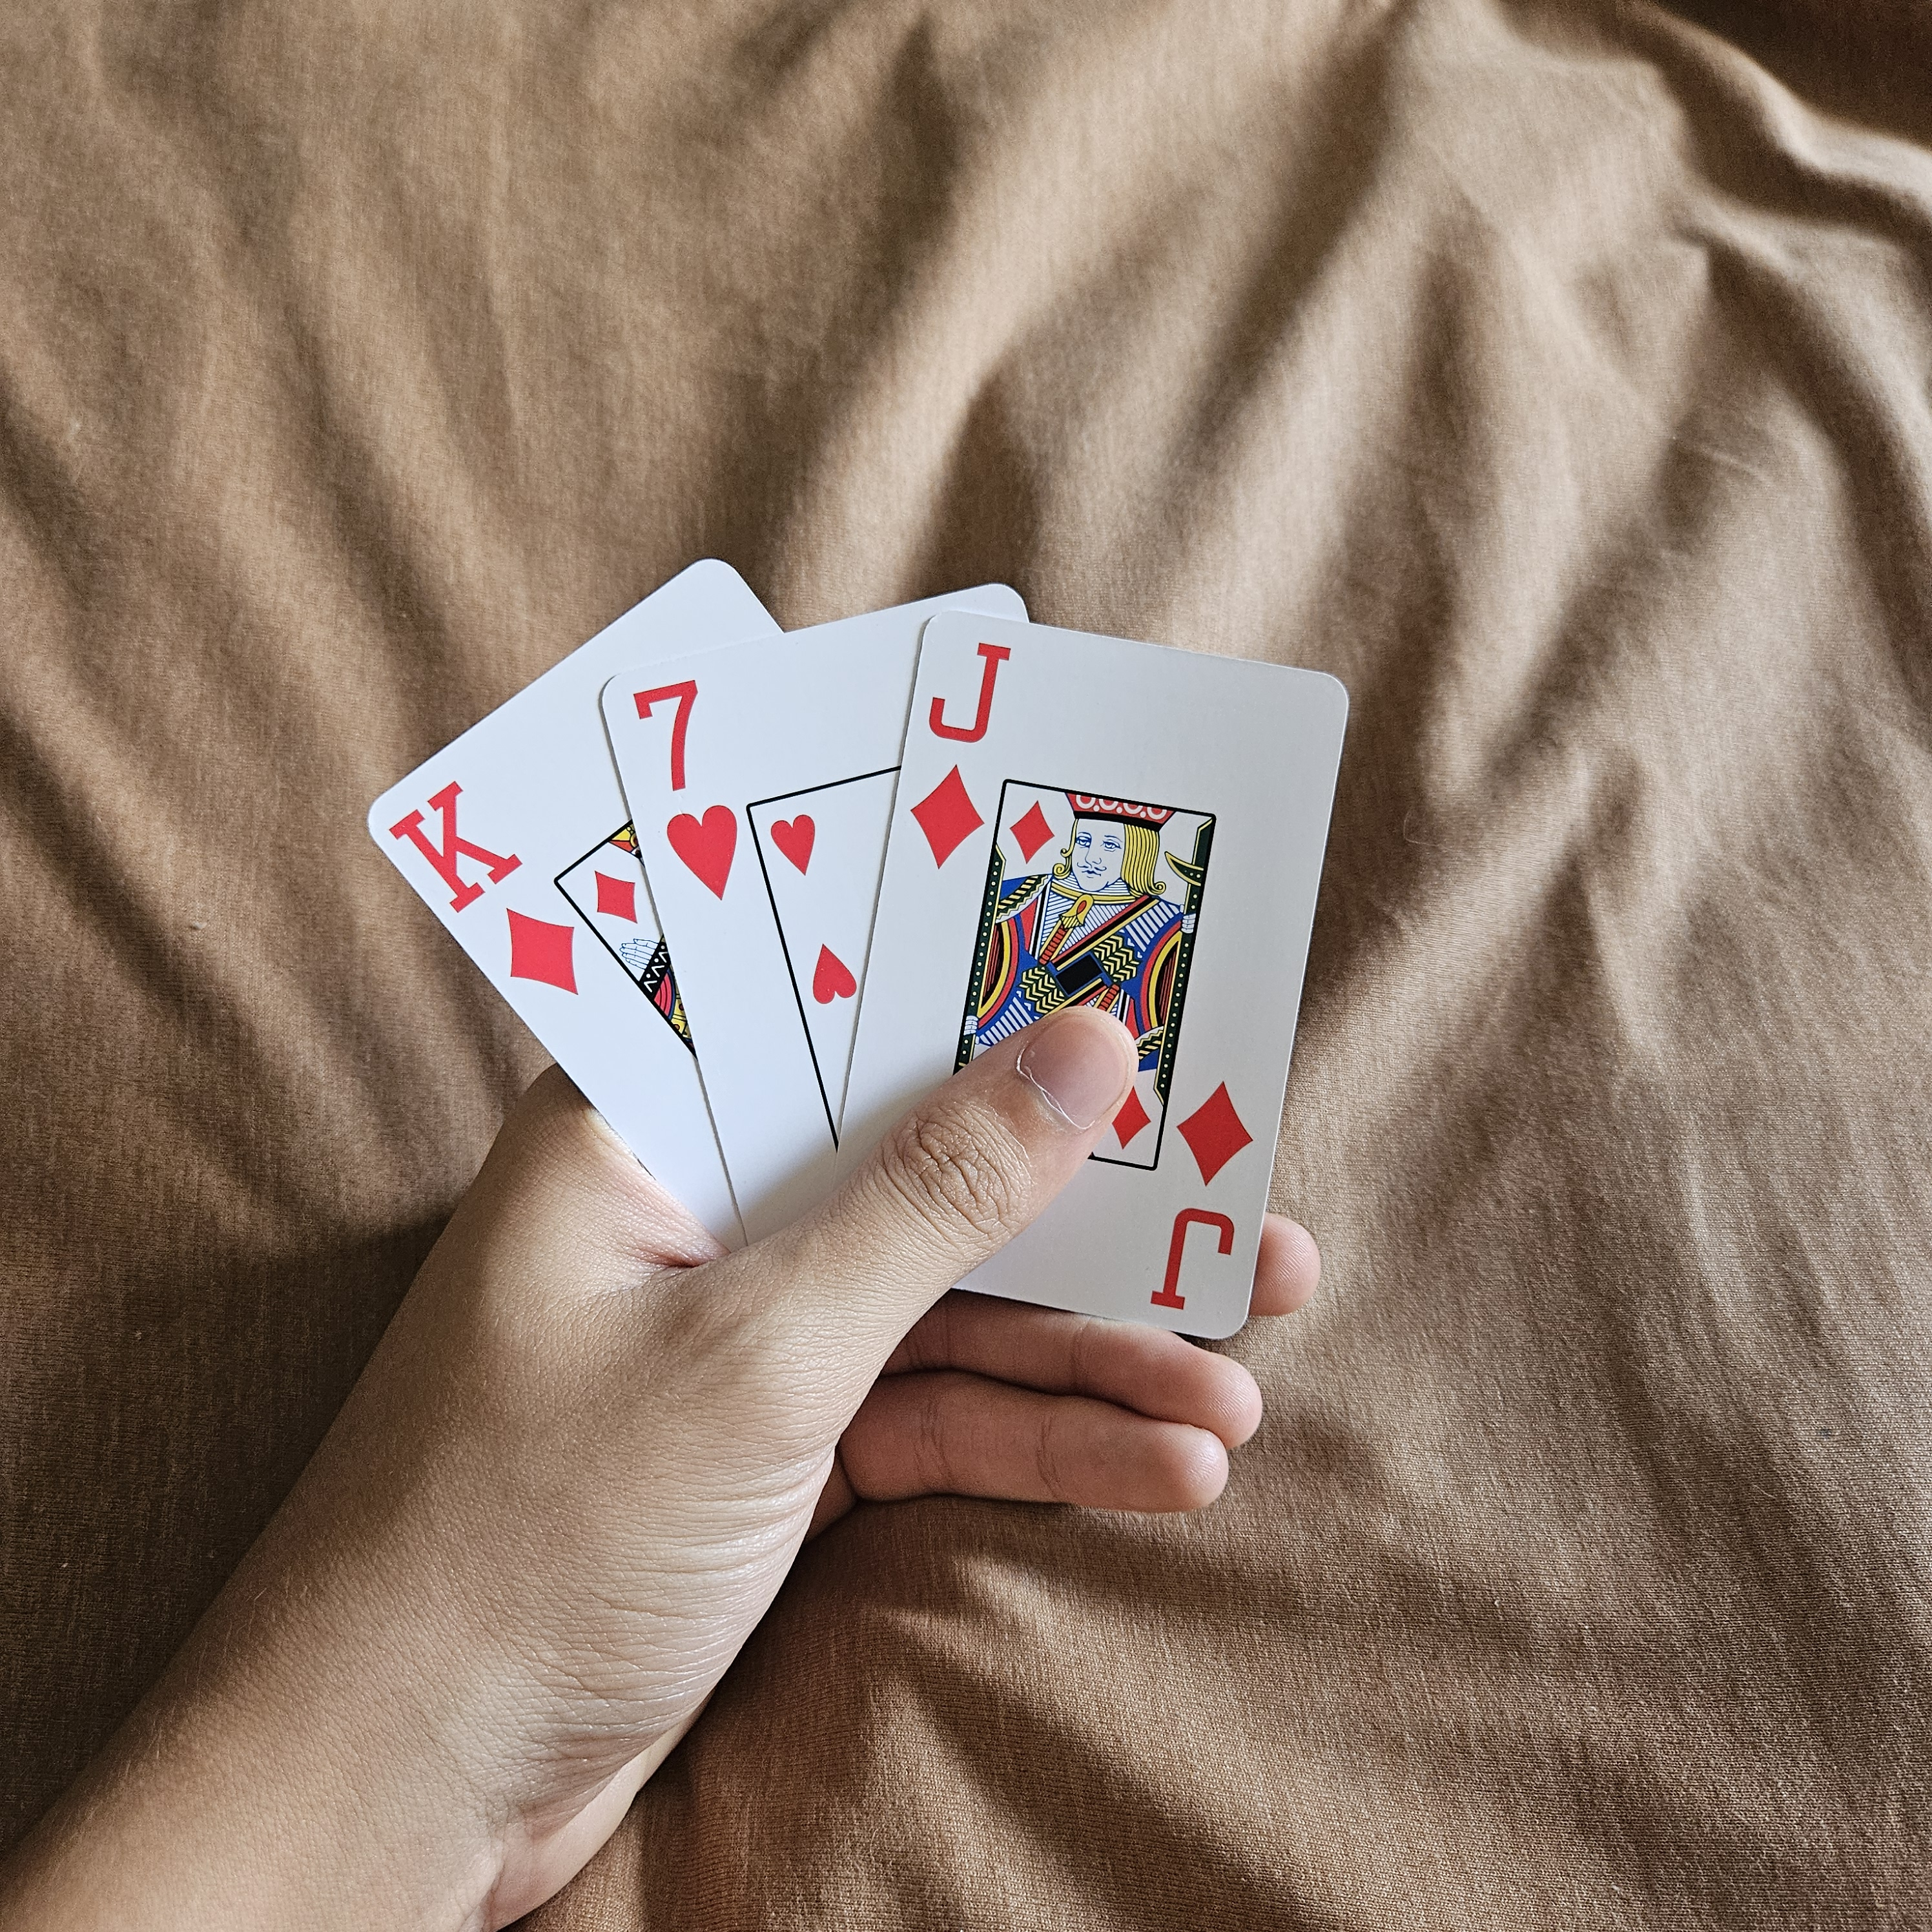7C: (619, 660, 761, 906)
JO: (1146, 1070, 1272, 1323), (902, 619, 1019, 883)
KO: (377, 764, 589, 1016)
